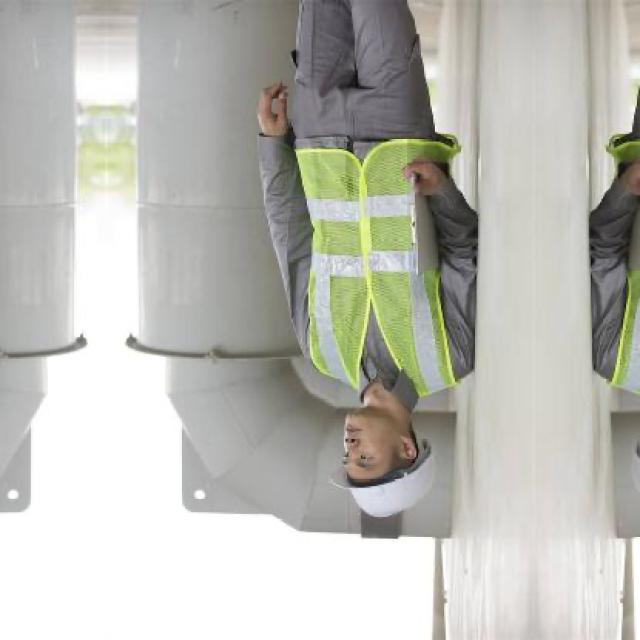con casco: (292, 332, 460, 530)
